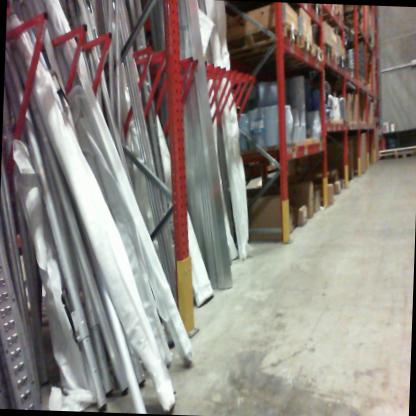pallet: (214, 22, 297, 67), (293, 33, 316, 65), (310, 6, 344, 27), (308, 42, 326, 71), (392, 145, 415, 165), (347, 22, 372, 39), (320, 40, 333, 65), (328, 44, 339, 68), (338, 60, 349, 73)
